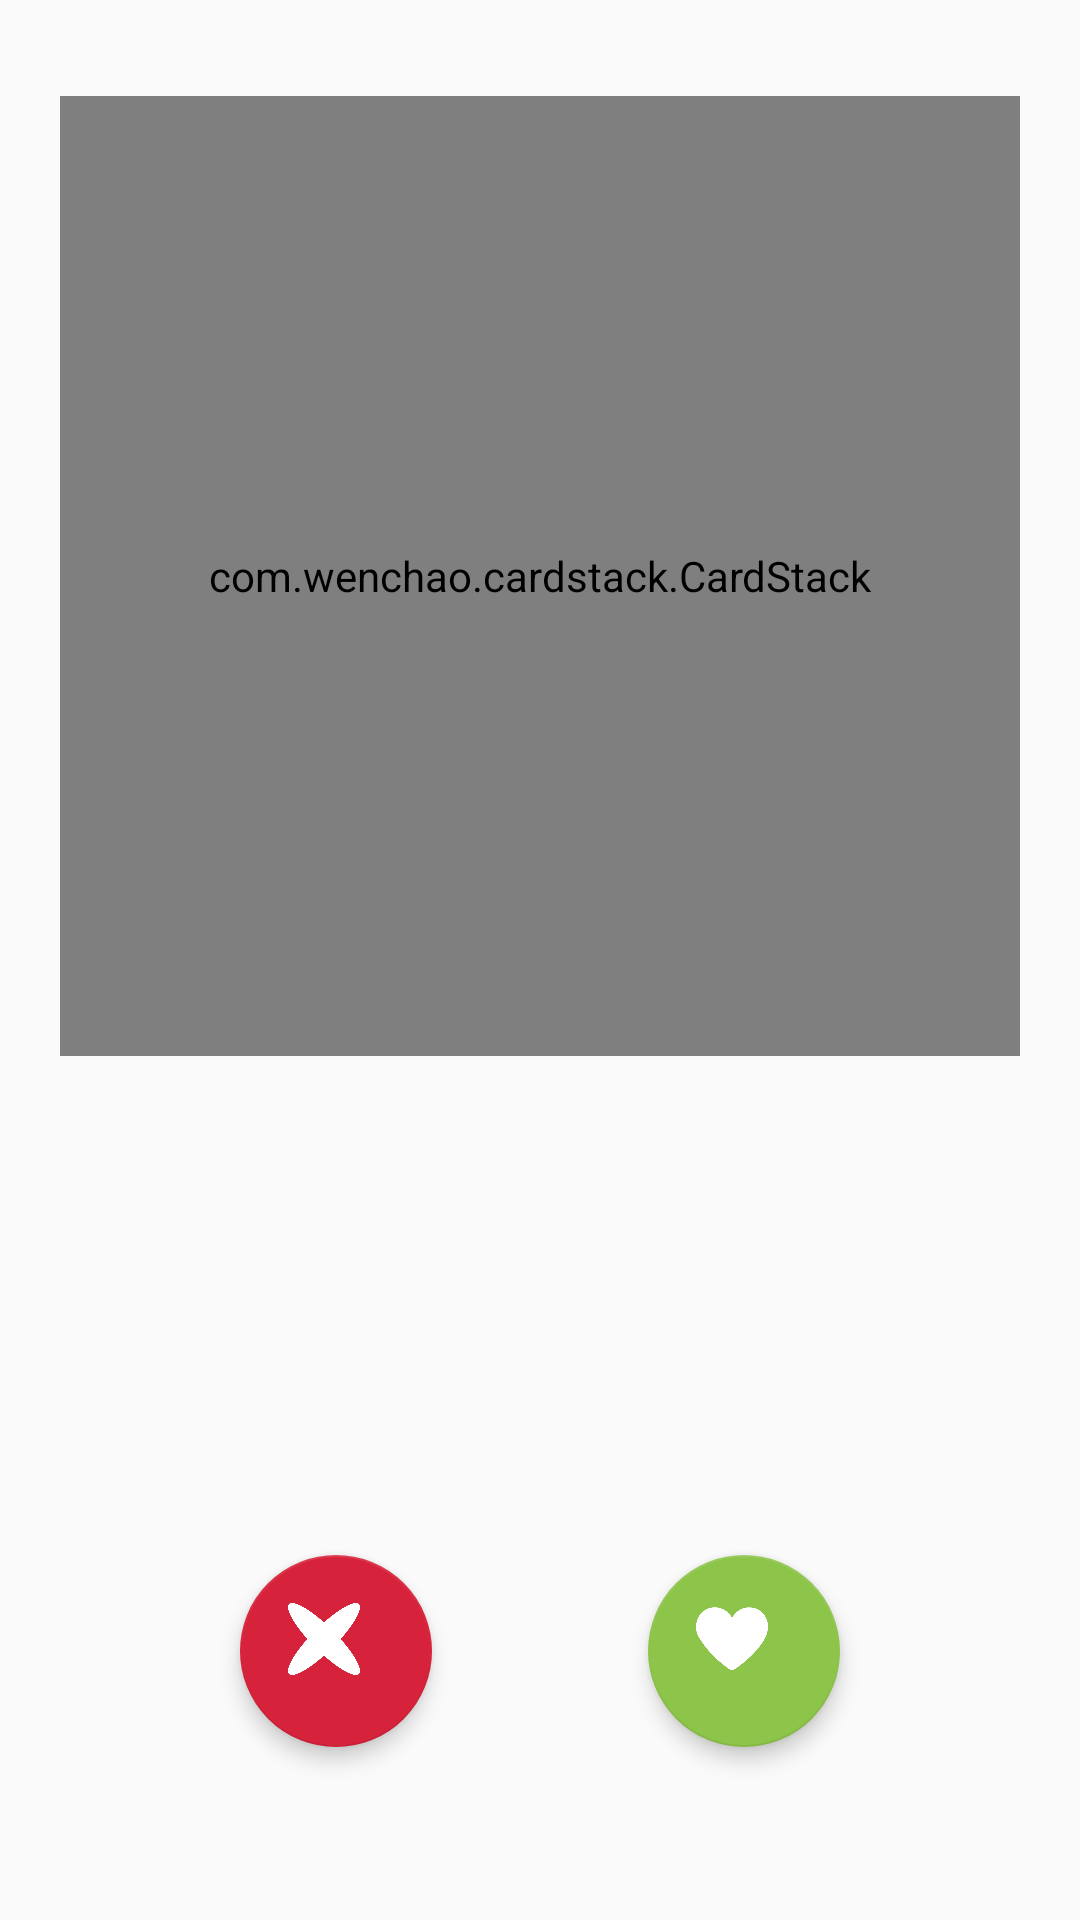

Icons on this 1080 × 1920 Android screen, each with the point to tap as point (x, y):
dislike: point (336, 1651)
like: point (744, 1651)
